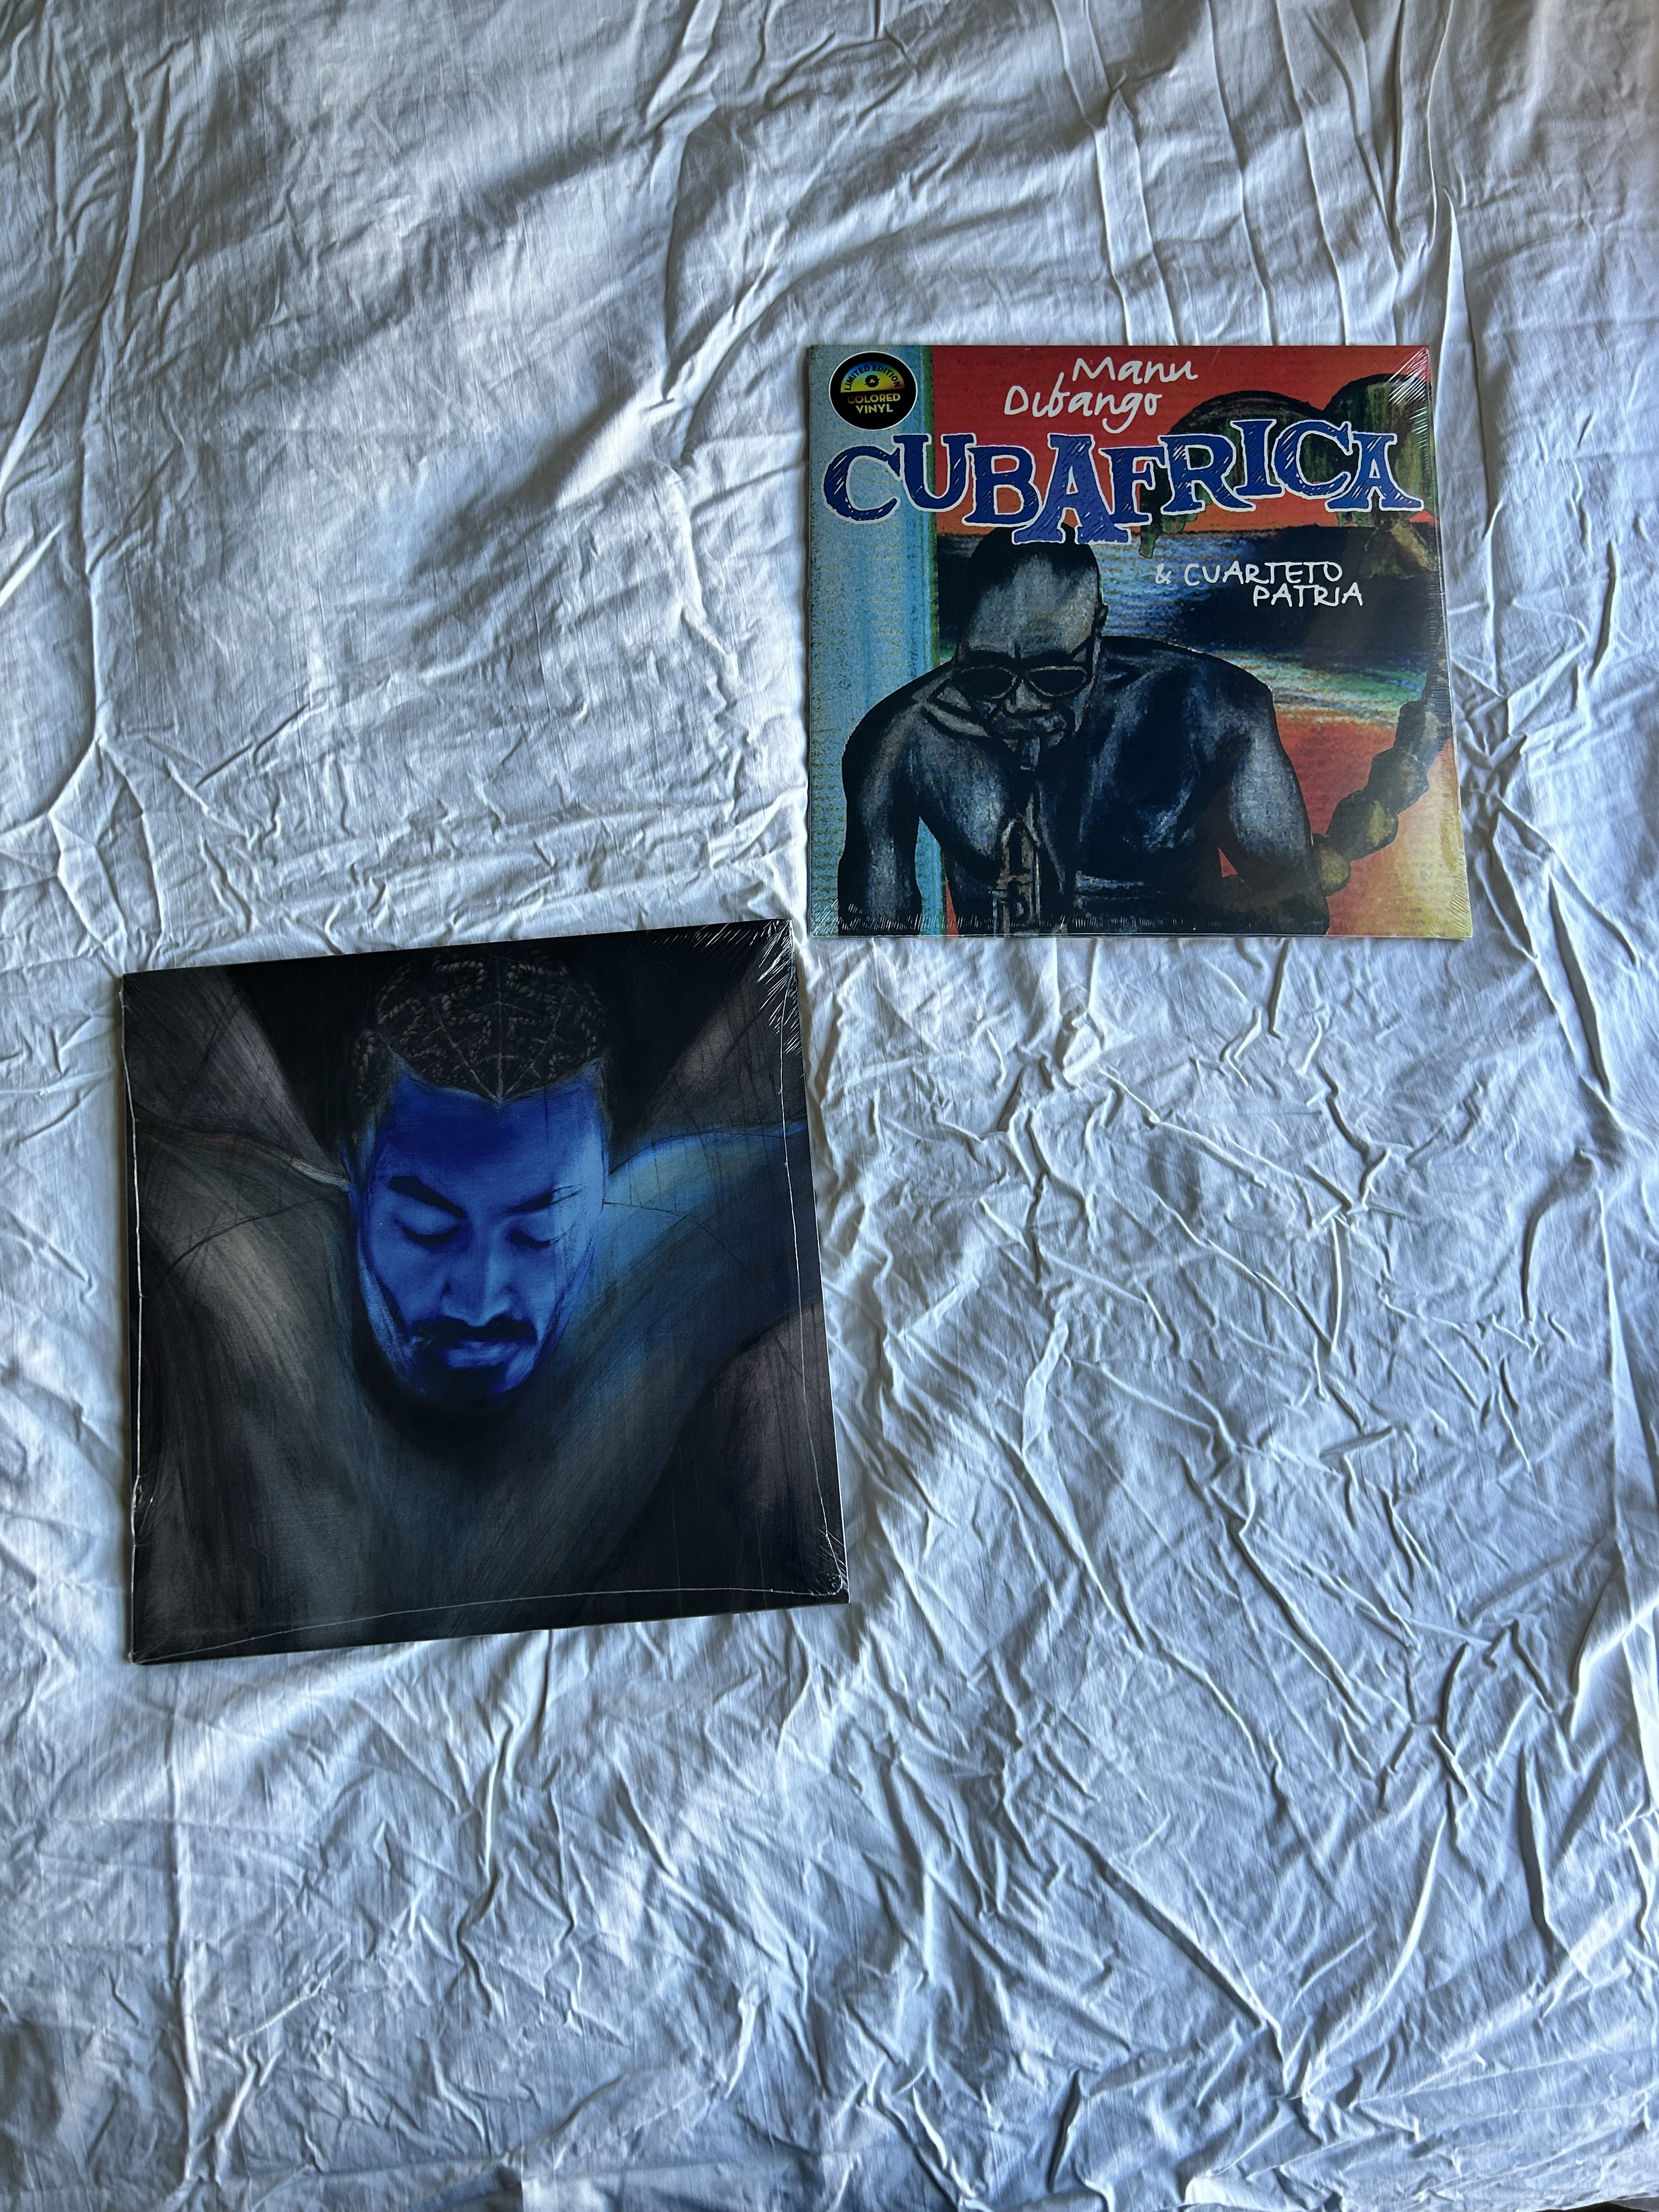manu dibango_cubafrica: (793, 340, 1474, 946)
navy blue_song of sage: post panic!: (77, 963, 814, 1665)
